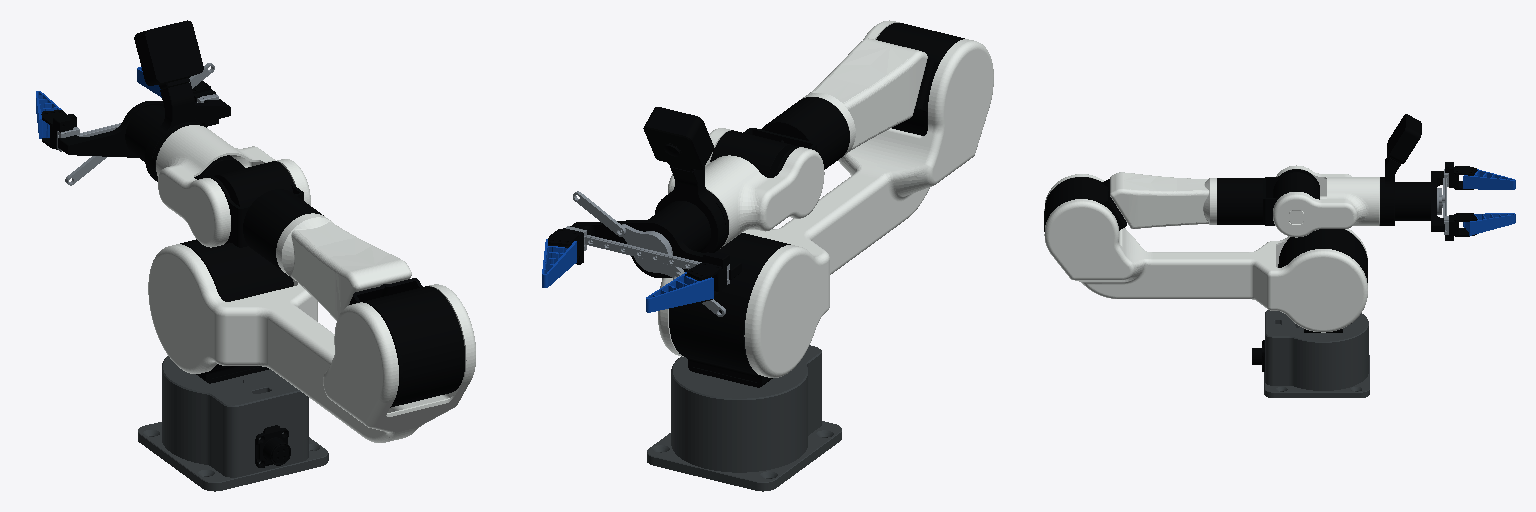
The robot description file, URDF, robot "milly":
<?xml version='1.0' encoding='utf-8'?>
<robot xmlns:bello="https://motomind.kr/bello/urdf" name="milly">
  <material name="milly_metal">
    <color rgba="0.52 0.55 0.58 1" />
  </material>
  <material name="milly_base">
    <color rgba="0.26 0.28 0.29 1" />
  </material>
  <material name="milly_blue">
    <color rgba="0.10 0.34 0.70 1" />
  </material>
  <material name="milly_black">
    <color rgba="0.055 0.060 0.065 1" />
  </material>
  <material name="milly_white">
    <color rgba="0.88 0.90 0.89 1" />
  </material>
  <link name="base_link">
    <inertial>
      <origin xyz="-0.0001241321748860844 -0.04203029467324181 0.04978668837136444" rpy="0 0 0" />
      <mass value="1.01372171051755" />
      <inertia ixx="0.001222473948380703" ixy="5.704125615847687e-07" ixz="7.03787041079121e-07" iyy="0.001034384940334247" iyz="9.599059522533496e-06" izz="0.001703404487664201" />
    </inertial>
    <visual name="base">
      <geometry>
        <mesh filename="../meshes/visual/exterior/base.stl" />
      </geometry>
      <material name="milly_base" />
    </visual>
    <visual name="base_connector">
      <origin xyz="0 0 0" rpy="0 0 0" />
      <geometry>
        <mesh filename="../meshes/visual/retained/base_connector.stl" />
      </geometry>
      <material name="milly_black" />
    </visual>
    <collision name="base_link_base_shell">
      <origin xyz="0 -0.045 0.0405" rpy="0 0 0" />
      <geometry>
        <cylinder radius="0.059" length="0.073" />
      </geometry>
    </collision>
    <collision name="base_link_base_connector">
      <origin xyz="0 -0.1092 0.034" rpy="0 0 0" />
      <geometry>
        <box size="0.03 0.0294 0.034" />
      </geometry>
    </collision>
  </link>
  <link name="link_1">
    <inertial>
      <origin xyz="-0.004323933900359966 7.687393629520179e-05 -0.06290636269894848" rpy="0 0 0" />
      <mass value="1.191749063077993" />
      <inertia ixx="0.001836921085157454" ixy="-4.52255779073625e-06" ixz="-1.12260196991184e-05" iyy="0.001514459139754772" iyz="4.217015543896721e-06" izz="0.001406349633054645" />
    </inertial>
    <visual name="shoulder_frame">
      <geometry>
        <mesh filename="../meshes/visual/exterior/shoulder_frame.stl" />
      </geometry>
      <material name="milly_black" />
    </visual>
    <collision name="link_1_shoulder_motor">
      <origin xyz="0 0 -0.066" rpy="0 1.57079632679 0" />
      <geometry>
        <cylinder radius="0.054" length="0.069" />
      </geometry>
    </collision>
  </link>
  <link name="link_2">
    <inertial>
      <origin xyz="-0.1483062926574494 -0.01849181910190976 0.09759427368664694" rpy="0 0 0" />
      <mass value="0.7815897120459003" />
      <inertia ixx="0.001633916335052286" ixy="-0.001906802222639715" ixz="-8.476845187890086e-06" iyy="0.01165741053820402" iyz="-7.893882732242727e-06" izz="0.01195159644935846" />
    </inertial>
    <visual name="shoulder_shroud">
      <geometry>
        <mesh filename="../meshes/visual/exterior/shoulder_shroud.stl" />
      </geometry>
      <material name="milly_black" />
    </visual>
    <visual name="upper_arm_case">
      <geometry>
        <mesh filename="../meshes/visual/exterior/upper_arm_case.stl" />
      </geometry>
      <material name="milly_white" />
    </visual>
    <collision name="link_2_shoulder_case">
      <origin xyz="0 0 0.09789" rpy="0 0 0" />
      <geometry>
        <cylinder radius="0.054" length="0.095" />
      </geometry>
    </collision>
    <collision name="link_2_shoulder_neck">
      <origin xyz="-0.065 -0.0015 0.09789" rpy="0 0 0" />
      <geometry>
        <box size="0.05 0.053 0.07" />
      </geometry>
    </collision>
    <collision name="link_2_upper_arm_beam">
      <origin xyz="-0.15 -0.0015 0.09789" rpy="0 0 0" />
      <geometry>
        <box size="0.12 0.053 0.03" />
      </geometry>
    </collision>
    <collision name="link_2_elbow_bridge">
      <origin xyz="-0.252 -0.022 0.09789" rpy="0 0 0.95" />
      <geometry>
        <box size="0.08 0.053 0.088" />
      </geometry>
    </collision>
    <collision name="link_2_elbow_case">
      <origin xyz="-0.290856 -0.0735 0.09789" rpy="0 0 0" />
      <geometry>
        <cylinder radius="0.045" length="0.088" />
      </geometry>
    </collision>
  </link>
  <link name="link_3">
    <inertial>
      <origin xyz="-0.02169485986926776 -0.05923475507546579 0.02650395851248238" rpy="0 0 0" />
      <mass value="1.271552397135363" />
      <inertia ixx="0.008396391783958448" ixy="-0.00302179023448194" ixz="4.351419901878976e-05" iyy="0.002021206766310417" iyz="0.000109719563412022" izz="0.009768029221245702" />
    </inertial>
    <visual name="elbow_frame">
      <geometry>
        <mesh filename="../meshes/visual/exterior/elbow_frame.stl" />
      </geometry>
      <material name="milly_black" />
    </visual>
    <visual name="forearm_case">
      <geometry>
        <mesh filename="../meshes/visual/exterior/forearm_case.stl" />
      </geometry>
      <material name="milly_white" />
    </visual>
    <collision name="link_3_elbow_motor">
      <origin xyz="0 0 0.028" rpy="0 0 0" />
      <geometry>
        <cylinder radius="0.045" length="0.062" />
      </geometry>
    </collision>
    <collision name="link_3_forearm_case">
      <origin xyz="-0.026176 -0.098697 0.028" rpy="1.57079632679 0 -0.523598775598" />
      <geometry>
        <box size="0.057 0.057 0.12913" />
      </geometry>
    </collision>
  </link>
  <link name="link_4">
    <inertial>
      <origin xyz="0.0009859770997829292 -2.365115034926596e-05 -0.04573273032225007" rpy="0 0 0" />
      <mass value="0.3850435382083583" />
      <inertia ixx="0.0001973526193856333" ixy="1.604894465729405e-06" ixz="6.186875660211891e-07" iyy="0.0002322088300336327" iyz="-1.897813568117843e-07" izz="0.0001905322394397914" />
    </inertial>
    <visual name="wrist_roll">
      <geometry>
        <mesh filename="../meshes/visual/exterior/wrist_roll.stl" />
      </geometry>
      <material name="milly_black" />
    </visual>
    <collision name="link_4_wrist_roll">
      <origin xyz="0 0 -0.016" rpy="0 0 0" />
      <geometry>
        <cylinder radius="0.03275" length="0.124" />
      </geometry>
    </collision>
  </link>
  <link name="link_5">
    <inertial>
      <origin xyz="-0.04857371338212793 -1.079796027950489e-05 0.02327872296404614" rpy="0 0 0" />
      <mass value="0.3370698983420428" />
      <inertia ixx="0.0002490303626795781" ixy="2.766286885498528e-07" ixz="5.853873297790393e-06" iyy="0.0005034117581304974" iyz="-4.873377044422999e-06" izz="0.0003912896397061188" />
    </inertial>
    <visual name="wrist_pitch">
      <geometry>
        <mesh filename="../meshes/visual/exterior/wrist_pitch.stl" />
      </geometry>
      <material name="milly_black" />
    </visual>
    <visual name="wrist_case">
      <geometry>
        <mesh filename="../meshes/visual/exterior/wrist_case.stl" />
      </geometry>
      <material name="milly_white" />
    </visual>
    <collision name="link_5_wrist_round_case">
      <origin xyz="-0.017 0 0.0235" rpy="1.57079632679 0 0" />
      <geometry>
        <cylinder radius="0.046" length="0.06" />
      </geometry>
    </collision>
    <collision name="link_5_wrist_rear_case">
      <origin xyz="-0.0675 0 0.0235" rpy="0 0 0" />
      <geometry>
        <box size="0.065 0.06 0.067" />
      </geometry>
    </collision>
  </link>
  <link name="link_6">
    <inertial>
      <origin xyz="0.001161593152570695 -0.004155879332003714 -0.06657769621003048" rpy="0 0 0" />
      <mass value="0.3562467995254684" />
      <inertia ixx="0.0004397508282694075" ixy="-3.533558893270019e-06" ixz="-7.723746609440908e-06" iyy="0.0003352527690104802" iyz="1.329613076551826e-05" izz="0.0003033202358509107" />
    </inertial>
  </link>
  <joint name="joint_1" type="revolute">
    <parent link="base_link" />
    <child link="link_1" />
    <origin xyz="0 -0.0375 0.072" rpy="3.1415927 -0 3.3306691e-16" />
    <axis xyz="0 0 1" />
    <limit lower="-2.72" upper="2.72" effort="100" velocity="3.1416" />
  </joint>
  <joint name="joint_2" type="revolute">
    <parent link="link_1" />
    <child link="link_2" />
    <origin xyz="0.097892511 3.9308472e-07 -0.066000163" rpy="1.5707963 1.725559e-06 -1.5707963" />
    <axis xyz="0 0 1" />
    <limit lower="-0.1" upper="3.24" effort="100" velocity="3.1416" />
  </joint>
  <joint name="joint_3" type="revolute">
    <parent link="link_2" />
    <child link="link_3" />
    <origin xyz="-0.2908564 -0.073500339 0.12589251" rpy="-3.1415927 1.5446581e-15 -2.0943934" />
    <axis xyz="0 0 1" />
    <limit lower="-0.1" upper="3.07" effort="80" velocity="3.1416" />
  </joint>
  <joint name="joint_4" type="revolute">
    <parent link="link_3" />
    <child link="link_4" />
    <origin xyz="-0.081458652 -0.19444951 0.028" rpy="-1.5707963 -1.5266166 -0.52359878" />
    <axis xyz="0 0 1" />
    <limit lower="-1.85" upper="1.85" effort="50" velocity="3.1416" />
  </joint>
  <joint name="joint_5" type="revolute">
    <parent link="link_4" />
    <child link="link_5" />
    <origin xyz="-0.0235 1.4210855e-16 -0.0495" rpy="3.1415927 -1.5707963 0" />
    <axis xyz="0 0 1" />
    <limit lower="-1.87" upper="1.92" effort="30" velocity="3.1416" />
  </joint>
  <joint name="joint_6" type="revolute">
    <parent link="link_5" />
    <child link="link_6" />
    <origin xyz="-0.068805556 -0.0019338747 0.023565267" rpy="-1.5707963 1.4354332 -1.5707963" />
    <axis xyz="0 0 1" />
    <limit lower="-1.6" upper="1.6" effort="20" velocity="3.1416" />
  </joint>
  <link name="gripper_base">
    <visual name="gripper_body">
      <geometry>
        <mesh filename="../meshes/visual/exterior/gripper_body.stl" />
      </geometry>
      <material name="milly_black" />
    </visual>
    <visual name="gripper_rail">
      <geometry>
        <mesh filename="../meshes/visual/exterior/gripper_rail.stl" />
      </geometry>
      <material name="milly_metal" />
    </visual>
    <collision name="gripper_base_motor_housing">
      <origin xyz="0 0 -0.03325" rpy="0 0 0" />
      <geometry>
        <cylinder radius="0.024" length="0.044" />
      </geometry>
    </collision>
    <collision name="gripper_base_rail_assembly">
      <origin xyz="0 0 -0.00185" rpy="0 0 0" />
      <geometry>
        <box size="0.154 0.019 0.0188" />
      </geometry>
    </collision>
  </link>
  <joint name="gripper_base_mount" type="fixed">
    <parent link="link_6" />
    <child link="gripper_base" />
    <origin xyz="-0.000196292508331 0.00192499920959 -0.104444420991" rpy="-3.14159260916 -3.54119307211e-08 0.09118335" />
  </joint>
  <link name="gripper_drive">
    <inertial>
      <origin xyz="0 0 -0.004" rpy="0 0 0" />
      <mass value="0.015" />
      <inertia ixx="2e-06" ixy="0" ixz="0" iyy="3e-06" iyz="0" izz="4e-06" />
    </inertial>
    <visual name="gripper_crank">
      <geometry>
        <mesh filename="../meshes/visual/exterior/gripper_crank.stl" />
      </geometry>
      <material name="milly_metal" />
    </visual>
  </link>
  <joint name="gripper" type="revolute">
    <parent link="gripper_base" />
    <child link="gripper_drive" />
    <origin xyz="0 0 0" rpy="0 0 0" />
    <axis xyz="0 0 1" />
    <limit lower="-2.4" upper="0.1" effort="20" velocity="20" />
  </joint>
  <link name="finger_1">
    <inertial>
      <origin xyz="-0.006728274898305932 0.004570245470696096 0.02279007026125835" rpy="0 0 0" />
      <mass value="0.0387190830608586" />
      <inertia ixx="1.44398992694164e-05" ixy="-1.152295569106406e-07" ixz="2.146742157720557e-06" iyy="1.414825796110789e-05" iyz="7.008217625227696e-07" izz="3.637340685425366e-06" />
    </inertial>
    <visual name="finger_1_carriage">
      <geometry>
        <mesh filename="../meshes/visual/gripper/finger_1_carriage.stl" />
      </geometry>
      <material name="milly_metal" />
    </visual>
    <visual name="finger_1_mount">
      <geometry>
        <mesh filename="../meshes/visual/gripper/finger_1_mount.stl" />
      </geometry>
      <material name="milly_black" />
    </visual>
    <visual name="finger_1_soft_pad">
      <geometry>
        <mesh filename="../meshes/visual/gripper/finger_1_soft_pad.stl" />
      </geometry>
      <material name="milly_blue" />
    </visual>
    <collision name="finger_1_jaw_base">
      <origin xyz="-0.0075 -0.000175 0.018625" rpy="0 0 0" />
      <geometry>
        <box size="0.022 0.03505 0.02875" />
      </geometry>
    </collision>
    <collision name="finger_1_jaw_contact_face">
      <origin xyz="-0.012 -0.00015 0.05625" rpy="0 0 0" />
      <geometry>
        <box size="0.013 0.029 0.0465" />
      </geometry>
    </collision>
    <collision name="finger_1_jaw_rounded_tip">
      <origin xyz="-0.0131 -0.00015 0.0795" rpy="0 1.57079632679 0" />
      <geometry>
        <cylinder radius="0.0145" length="0.0108" />
      </geometry>
    </collision>
  </link>
  <joint name="finger_1_joint" type="prismatic">
    <parent link="gripper_base" />
    <child link="finger_1" />
    <origin xyz="0.0720156969673 0 0" rpy="0 0 0" />
    <axis xyz="1 0 0" />
    <limit lower="-0.065" upper="0.005" effort="100" velocity="2" />
  </joint>
  <link name="gripper_rod_1">
    <inertial>
      <origin xyz="0.0225 0 0.004025" rpy="0 0 0" />
      <mass value="0.01" />
      <inertia ixx="1e-07" ixy="0" ixz="0" iyy="2.3e-06" iyz="0" izz="2.3e-06" />
    </inertial>
    <visual name="gripper_rod_1">
      <geometry>
        <mesh filename="../meshes/visual/exterior/gripper_rod_1.stl" />
      </geometry>
      <material name="milly_metal" />
    </visual>
  </link>
  <joint name="gripper_rod_1_joint" type="revolute">
    <parent link="gripper_drive" />
    <child link="gripper_rod_1" />
    <origin xyz="-0.0264334304016 0.0141870982658 0" rpy="0 0 2.64900977378" />
    <axis xyz="0 0 1" />
    <limit lower="-4" upper="1" effort="100" velocity="100" />
  </joint>
  <link name="gripper_rod_1_tip" />
  <joint name="gripper_rod_1_tip_mount" type="fixed">
    <parent link="gripper_rod_1" />
    <child link="gripper_rod_1_tip" />
    <origin xyz="0.045 0 0.004025" rpy="0 0 0" />
  </joint>
  <link name="finger_1_pin" />
  <joint name="finger_1_pin_mount" type="fixed">
    <parent link="finger_1" />
    <child link="finger_1_pin" />
    <origin xyz="0 0.014 0.004025" rpy="0 0 0" />
  </joint>
  <link name="finger_2">
    <inertial>
      <origin xyz="0.008388135513413638 -0.003852094112952488 0.02273941501024205" rpy="0 0 0" />
      <mass value="0.0387190831442922" />
      <inertia ixx="1.431552848630381e-05" ixy="-1.104047784268819e-07" ixz="-2.117334095381115e-06" iyy="1.401950658257112e-05" iyz="-6.766744115017851e-07" izz="3.62778234626104e-06" />
    </inertial>
    <visual name="finger_2_carriage">
      <geometry>
        <mesh filename="../meshes/visual/gripper/finger_2_carriage.stl" />
      </geometry>
      <material name="milly_metal" />
    </visual>
    <visual name="finger_2_mount">
      <geometry>
        <mesh filename="../meshes/visual/gripper/finger_2_mount.stl" />
      </geometry>
      <material name="milly_black" />
    </visual>
    <visual name="finger_2_soft_pad">
      <geometry>
        <mesh filename="../meshes/visual/gripper/finger_2_soft_pad.stl" />
      </geometry>
      <material name="milly_blue" />
    </visual>
    <collision name="finger_2_jaw_base">
      <origin xyz="0.0075 0.000175 0.018625" rpy="0 0 0" />
      <geometry>
        <box size="0.022 0.03505 0.02875" />
      </geometry>
    </collision>
    <collision name="finger_2_jaw_contact_face">
      <origin xyz="0.012 0.00015 0.05625" rpy="0 0 0" />
      <geometry>
        <box size="0.013 0.029 0.0465" />
      </geometry>
    </collision>
    <collision name="finger_2_jaw_rounded_tip">
      <origin xyz="0.0131 0.00015 0.0795" rpy="0 1.57079632679 0" />
      <geometry>
        <cylinder radius="0.0145" length="0.0108" />
      </geometry>
    </collision>
  </link>
  <joint name="finger_2_joint" type="prismatic">
    <parent link="gripper_base" />
    <child link="finger_2" />
    <origin xyz="-0.0720156969673 0 0" rpy="0 0 0" />
    <axis xyz="-1 0 0" />
    <limit lower="-0.065" upper="0.005" effort="100" velocity="2" />
  </joint>
  <link name="gripper_rod_2">
    <inertial>
      <origin xyz="0.0225 0 0.004025" rpy="0 0 0" />
      <mass value="0.01" />
      <inertia ixx="1e-07" ixy="0" ixz="0" iyy="2.3e-06" iyz="0" izz="2.3e-06" />
    </inertial>
    <visual name="gripper_rod_2">
      <geometry>
        <mesh filename="../meshes/visual/exterior/gripper_rod_2.stl" />
      </geometry>
      <material name="milly_metal" />
    </visual>
  </link>
  <joint name="gripper_rod_2_joint" type="revolute">
    <parent link="gripper_drive" />
    <child link="gripper_rod_2" />
    <origin xyz="0.0264334304016 -0.0141870982658 0" rpy="0 0 -0.492582879807" />
    <axis xyz="0 0 1" />
    <limit lower="-4" upper="1" effort="100" velocity="100" />
  </joint>
  <link name="gripper_rod_2_tip" />
  <joint name="gripper_rod_2_tip_mount" type="fixed">
    <parent link="gripper_rod_2" />
    <child link="gripper_rod_2_tip" />
    <origin xyz="0.045 0 0.004025" rpy="0 0 0" />
  </joint>
  <link name="finger_2_pin" />
  <joint name="finger_2_pin_mount" type="fixed">
    <parent link="finger_2" />
    <child link="finger_2_pin" />
    <origin xyz="0 -0.014 0.004025" rpy="0 0 0" />
  </joint>
  <link name="camera_link">
    <visual name="camera">
      <geometry>
        <mesh filename="../meshes/visual/exterior/camera.stl" />
      </geometry>
      <material name="milly_black" />
    </visual>
    <collision name="camera_link_camera_housing">
      <origin xyz="-0.01125 0 0" rpy="0 0 0" />
      <geometry>
        <box size="0.0255 0.045 0.045" />
      </geometry>
    </collision>
    <collision name="camera_link_camera_stalk">
      <origin xyz="-0.0115 0 -0.042" rpy="0 -0.523598775598 0" />
      <geometry>
        <box size="0.006 0.022 0.046" />
      </geometry>
    </collision>
    <collision name="camera_link_camera_mount">
      <origin xyz="0.016 0 -0.08" rpy="0 1.0471975512 0" />
      <geometry>
        <cylinder radius="0.03" length="0.006" />
      </geometry>
    </collision>
  </link>
  <joint name="camera_mount" type="fixed">
    <parent link="link_6" />
    <child link="camera_link" />
    <origin xyz="0.00678751791198 -0.0744534778455 -0.0726332243985" rpy="3.14159258277 1.04719750676 1.66197961546" />
  </joint>
  <link name="camera_optical_frame" />
  <joint name="camera_optical_joint" type="fixed">
    <parent link="camera_link" />
    <child link="camera_optical_frame" />
    <origin xyz="0 0 0" rpy="-1.57079632679 0 -1.57079632679" />
  </joint>
  <bello:slider_crank name="milly_gripper" driver="gripper" sliders="finger_1_joint finger_2_joint" rods="gripper_rod_1_joint gripper_rod_2_joint" crank_radius="0.03" rod_length="0.045" slider_offset="0.014" phase="2.64900977378" slider_reference="0.0720156969673" />
</robot>

--- What the picture shows (computed from the rendered views, not written in the file) ---
3 views of the same robot in one strip: view 1: azimuth 30°, elevation 25°; view 2: azimuth 150°, elevation 25°; view 3: azimuth 270°, elevation 25° (orthographic).
Model milly with 19 links and 18 joints (9 revolute, 2 prismatic, 7 fixed), rooted at base_link, posed all joints at 0.
Links seen in each view (by area): view 1: link_2, base_link, link_3, link_5, camera_link, gripper_base, link_4, finger_1, link_1, finger_2; view 2: link_2, base_link, link_3, link_5, camera_link, gripper_base, link_4, finger_1, finger_2, link_1, gripper_drive, gripper_rod_1; view 3: link_2, base_link, link_3, link_5, link_4, gripper_base, camera_link, finger_2, finger_1.
Boxes of the visible links, bbox=[...] form: link_2: bbox=[148, 239, 475, 442]; base_link: bbox=[138, 356, 328, 491]; link_3: bbox=[276, 213, 464, 407]; link_5: bbox=[152, 122, 310, 247]; camera_link: bbox=[134, 20, 203, 181]; gripper_base: bbox=[58, 99, 230, 161]; link_4: bbox=[207, 161, 323, 270]; finger_1: bbox=[36, 91, 79, 151]; link_1: bbox=[180, 243, 293, 383]; finger_2: bbox=[137, 67, 218, 126]; link_2: bbox=[658, 20, 993, 382]; base_link: bbox=[647, 345, 841, 491]; link_3: bbox=[802, 23, 964, 154]; link_5: bbox=[668, 128, 824, 248]; camera_link: bbox=[643, 107, 725, 252]; gripper_base: bbox=[570, 201, 741, 279]; link_4: bbox=[710, 97, 849, 175]; finger_1: bbox=[646, 251, 729, 312]; finger_2: bbox=[542, 226, 586, 287]; link_1: bbox=[669, 244, 790, 387]; gripper_drive: bbox=[619, 224, 684, 277]; gripper_rod_1: bbox=[573, 191, 625, 236]; link_2: bbox=[1044, 174, 1367, 332]; base_link: bbox=[1252, 310, 1369, 397]; link_3: bbox=[1044, 172, 1216, 231]; link_5: bbox=[1273, 165, 1384, 237]; link_4: bbox=[1217, 169, 1319, 225]; gripper_base: bbox=[1395, 171, 1446, 231]; camera_link: bbox=[1385, 114, 1421, 225]; finger_2: bbox=[1444, 213, 1515, 240]; finger_1: bbox=[1444, 162, 1515, 189].
Size in the robot's own frame: 0.1555 by 0.5674 by 0.3423 metres.
22 mesh visuals loaded from 22 distinct referenced files (22 binary STL).
